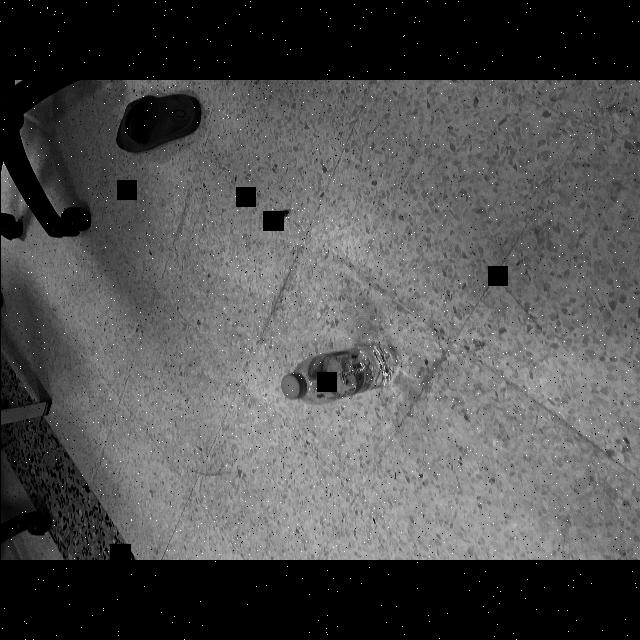plastic_bottle: (280, 346, 400, 404)
plastic_bottle_cap: (280, 372, 306, 400)
